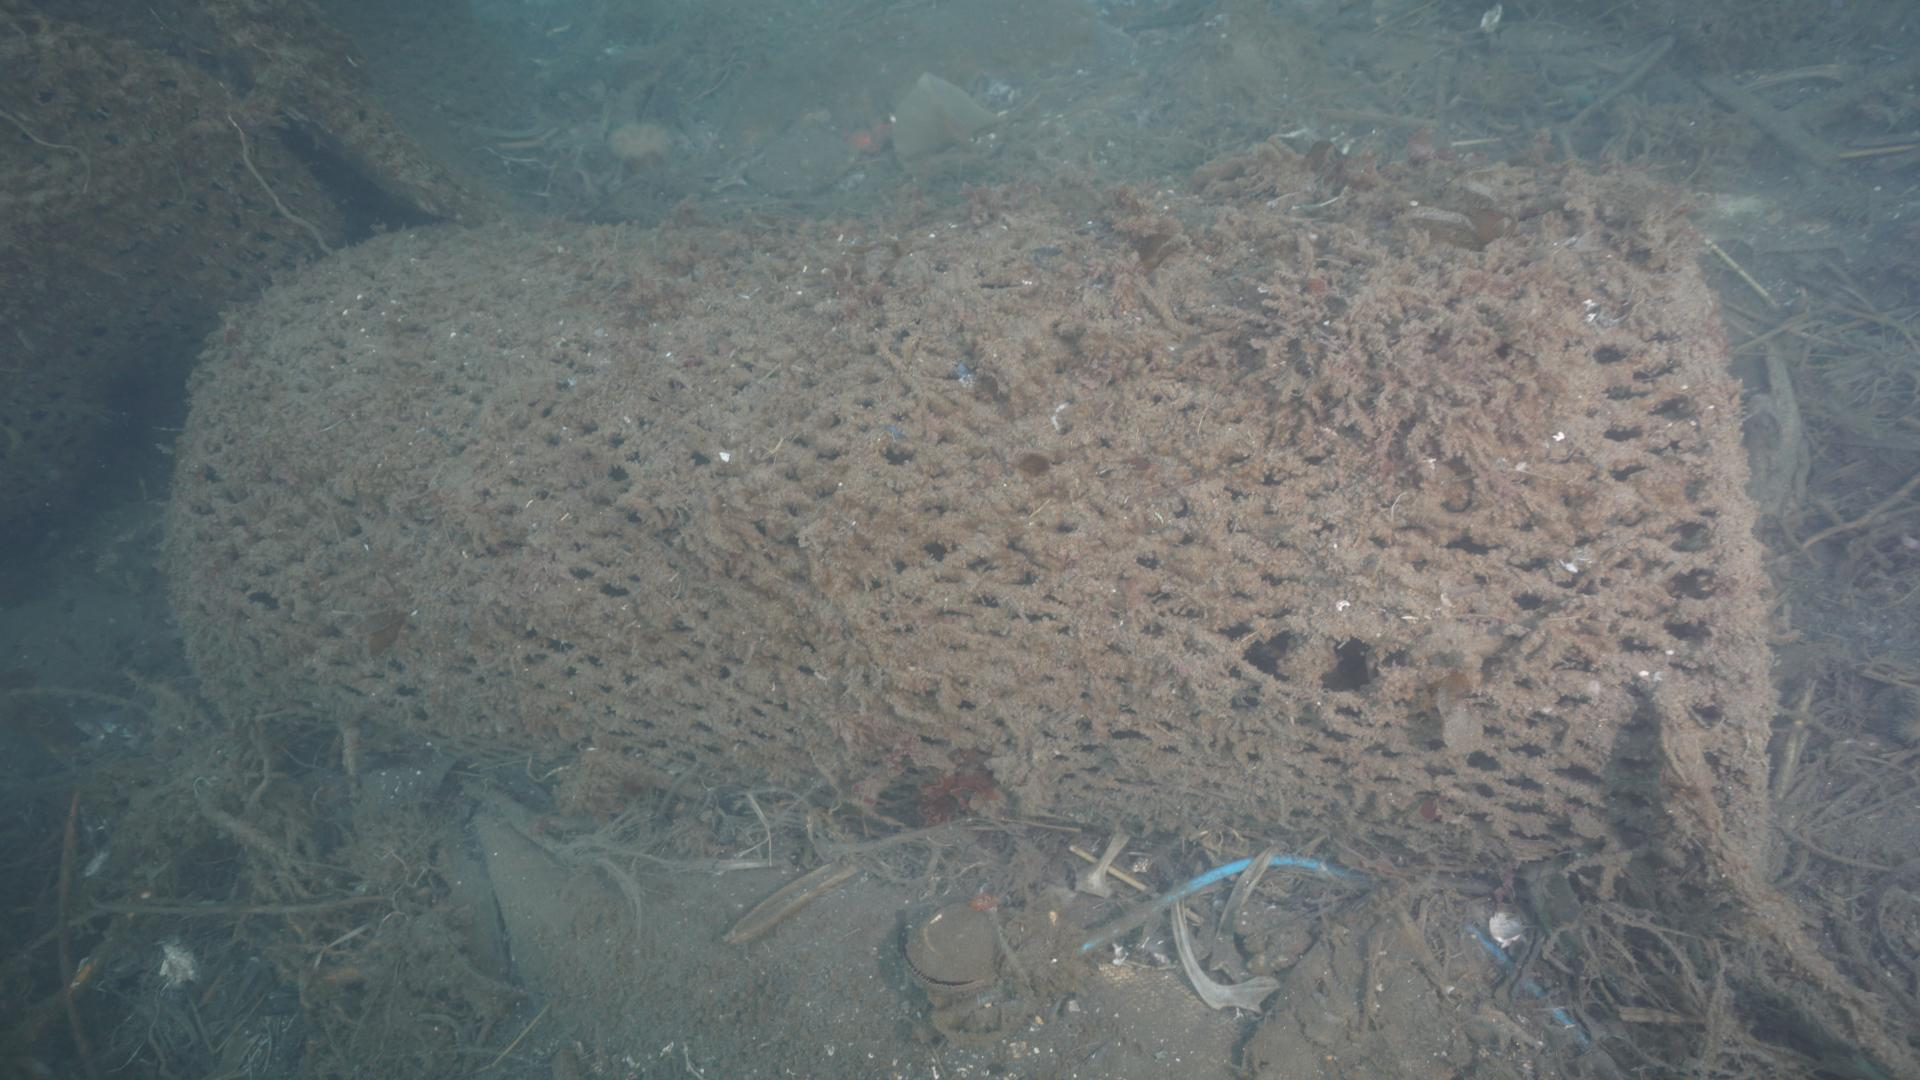spring fish trap: (156, 158, 1783, 905)
